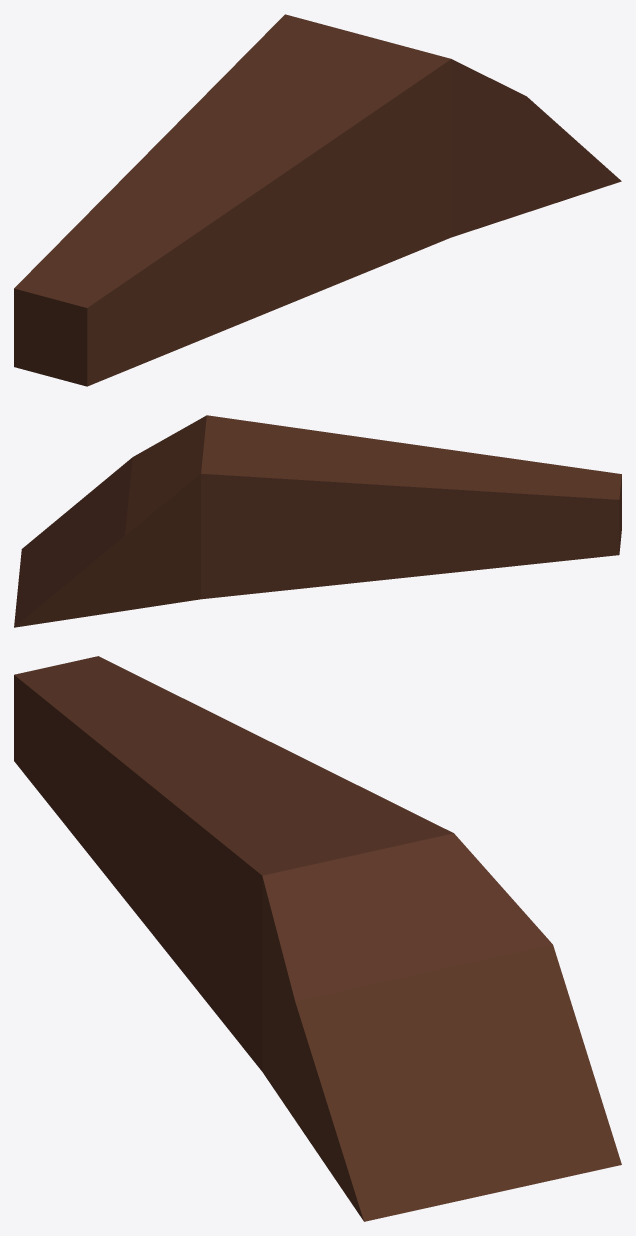
File: Eyebrow.fbx
The picture shows the model from 3 angles, top to bottom: view 1: azimuth 30°, elevation 25°; view 2: azimuth 150°, elevation 25°; view 3: azimuth 270°, elevation 25°; orthographic projection. The views are drawn at different scales.
Visible parts, largest first — view 1: Eyebrow.L; view 2: Eyebrow.L; view 3: Eyebrow.L.
Part boxes in pixels (x1=…): Eyebrow.L: x1=14, y1=14, x2=621, y2=386; Eyebrow.L: x1=14, y1=415, x2=621, y2=627; Eyebrow.L: x1=14, y1=656, x2=621, y2=1221.
Bounding box in the file's own units: 21.26 × 5.83 × 13.98.
